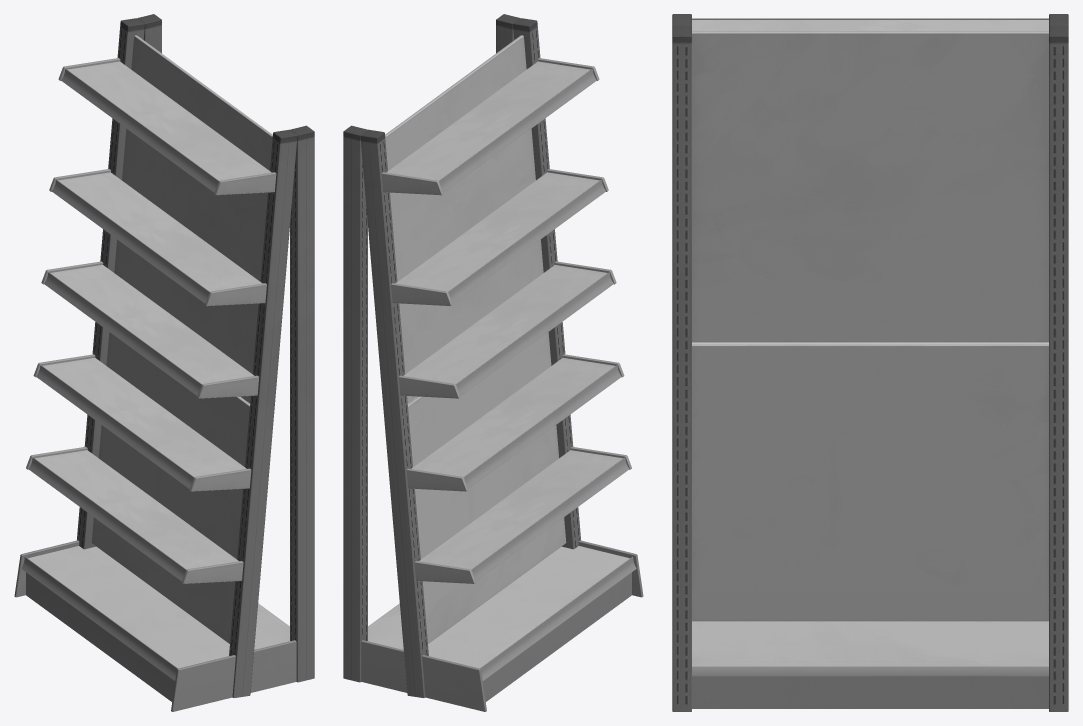
Rendered from SM_Shelf_07.fbx.
3 views of the same model, side by side, from view 1: azimuth 30°, elevation 25°; view 2: azimuth 150°, elevation 25°; view 3: azimuth 270°, elevation 25° (orthographic). The views are drawn at different scales.
Parts seen in each view (by area): view 1: SM_Shelf_07_LOD0; view 2: SM_Shelf_07_LOD0; view 3: SM_Shelf_07_LOD0.
Part boxes in pixels (x1,y1,x2,y2): SM_Shelf_07_LOD0: (14,14,314,711); SM_Shelf_07_LOD0: (343,14,643,711); SM_Shelf_07_LOD0: (672,14,1068,711).
Size of the model in its own units: 40.68 by 80 by 151.
